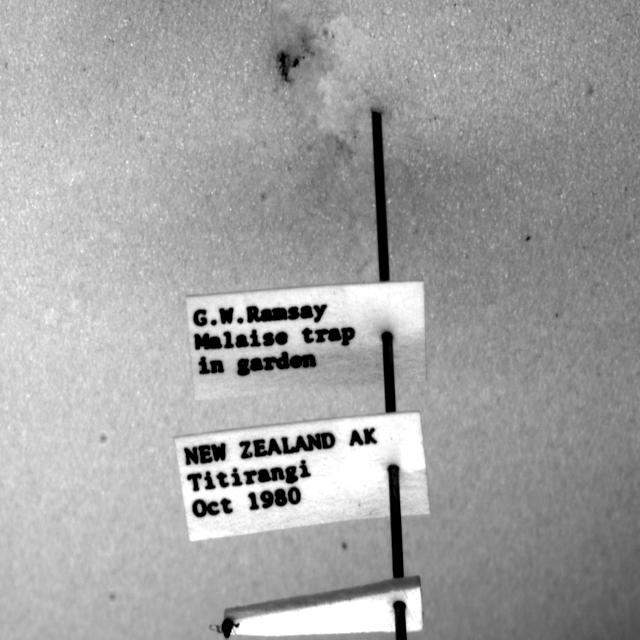typed_label: (175, 412, 430, 540), (186, 281, 426, 399)
